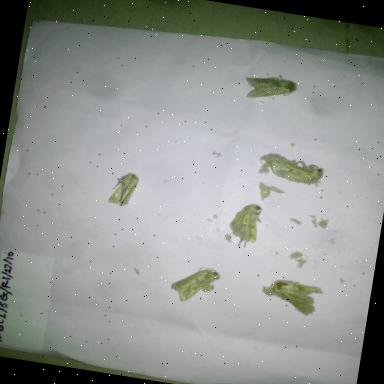abw: (226, 62, 314, 110), (158, 256, 232, 311), (254, 272, 334, 322), (250, 146, 334, 193), (218, 194, 270, 254), (98, 164, 150, 213)
